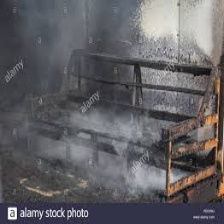smoke: (43, 115, 174, 194)
